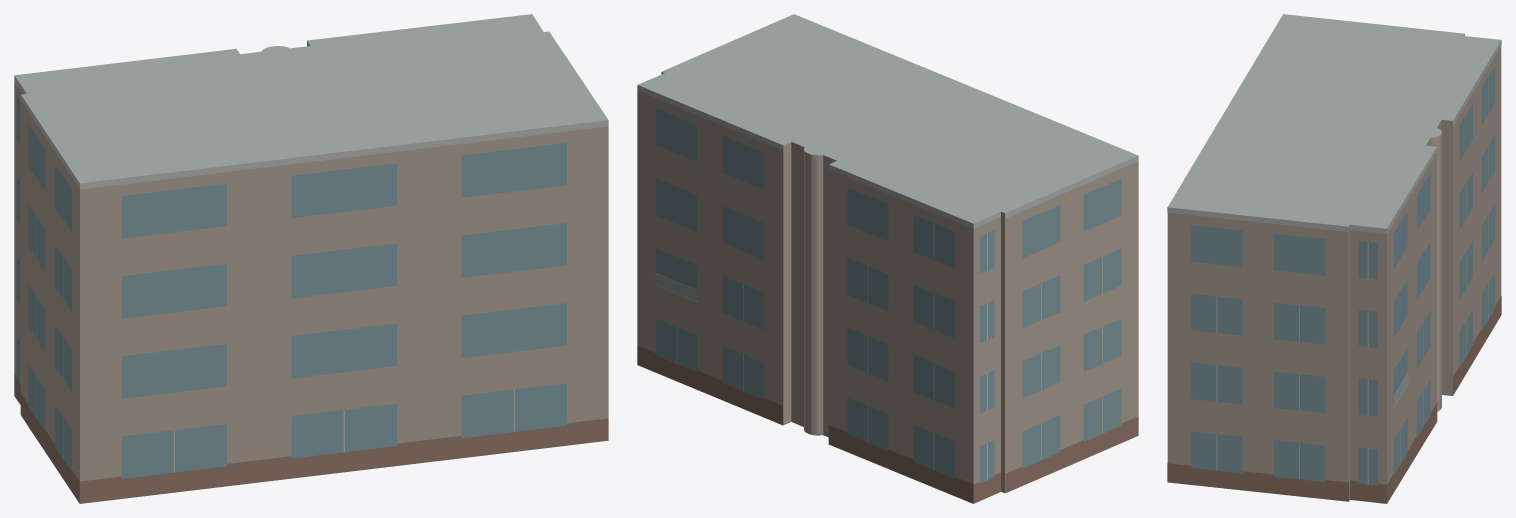
Rendered from survey-upis-32965660.glb.
3 views of the same model, side by side, from view 1: azimuth 30°, elevation 25°; view 2: azimuth 150°, elevation 25°; view 3: azimuth 270°, elevation 25° (orthographic). The views are drawn at different scales.
Parts seen in each view (by area): view 1: survey-upis-32965660.tmp; view 2: survey-upis-32965660.tmp; view 3: survey-upis-32965660.tmp.
Boxes of the visible parts, box(x1,y1,x2,y2) form: survey-upis-32965660.tmp: box(14, 14, 608, 503); survey-upis-32965660.tmp: box(637, 14, 1138, 503); survey-upis-32965660.tmp: box(1167, 14, 1501, 503).
Size of the model in its own units: 21.11 by 12.6 by 13.87.
